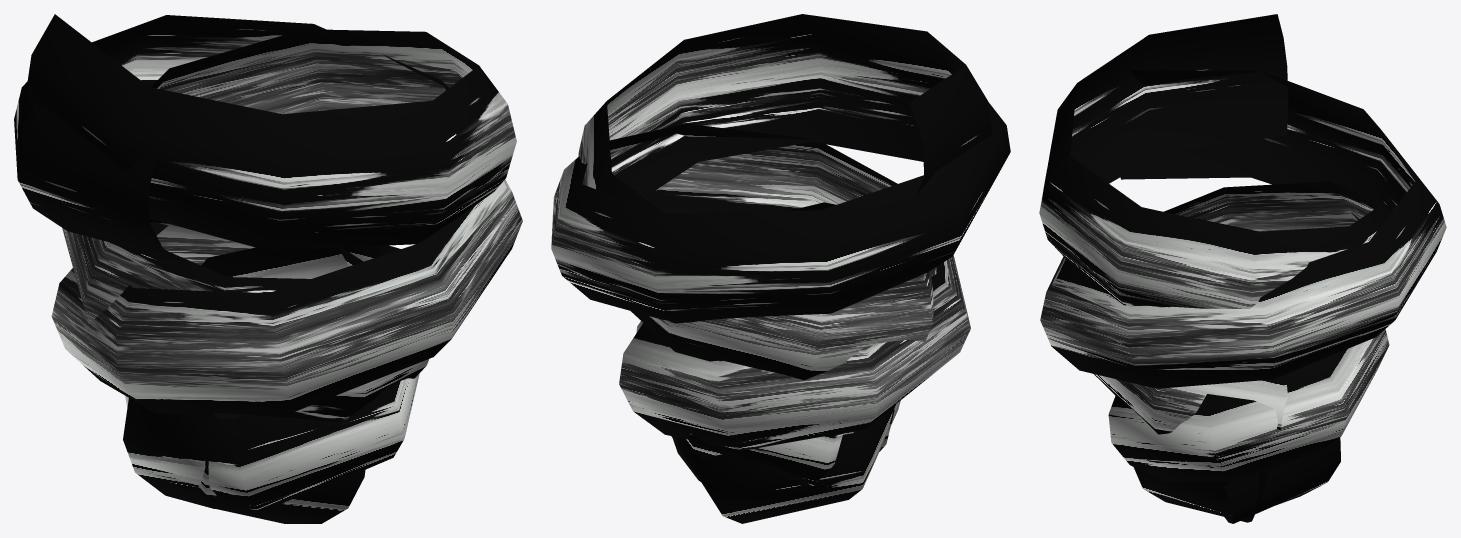
The model's file is lunjuanfeng_01.FBX.
3 renders of one model, left to right at view 1: azimuth 30°, elevation 25°; view 2: azimuth 150°, elevation 25°; view 3: azimuth 270°, elevation 25°, orthographic. The views are drawn at different scales.
Parts seen in each view (by area): view 1: Mesher002; view 2: Mesher002; view 3: Mesher002.
Part boxes in pixels (x1,y1,x2,y2): Mesher002: (14, 14, 522, 523); Mesher002: (551, 14, 1010, 523); Mesher002: (1039, 14, 1446, 523).
Size of the model in its own units: 125 by 137 by 119.
